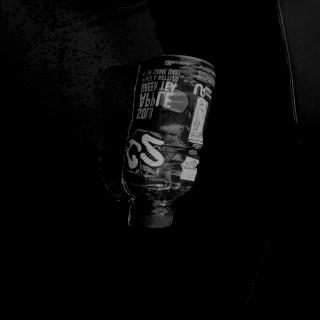bottle: (120, 54, 218, 230)
